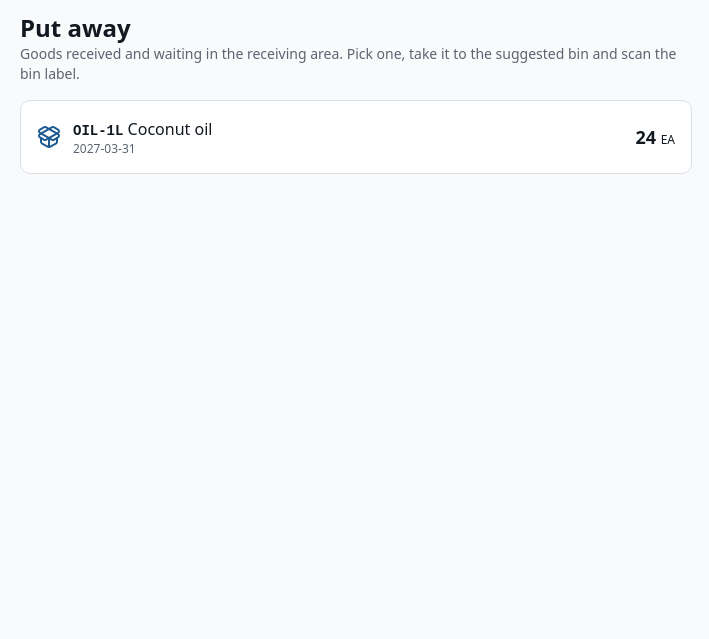
Test: suggests a bin, accepts another scanned bin with a note, and puts away the chosen quantity
Click the button "OIL-1L Coconut oil 2027-03-31 24 EA". click: click(98, 131)
box: [20,100,692,174]
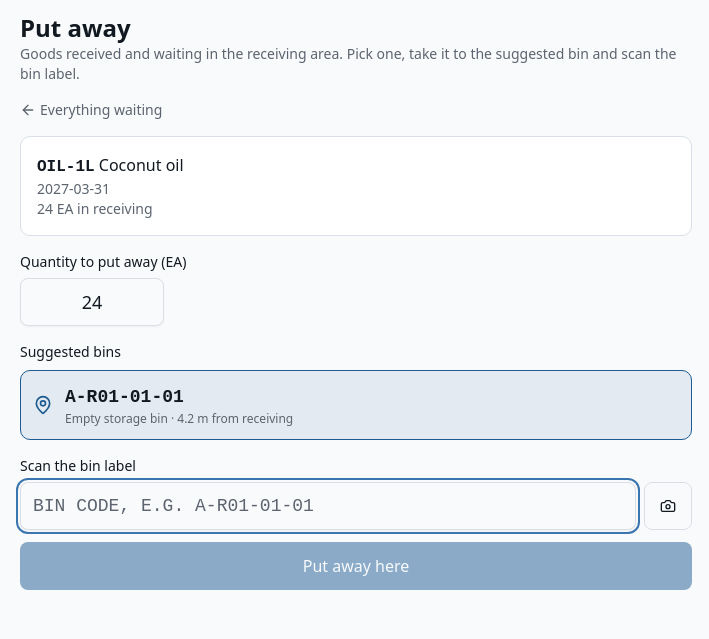
Replace the text in the field labelled "Quantity to put away (EA)" with "10". click: (92, 302)
box: [20,278,164,326]
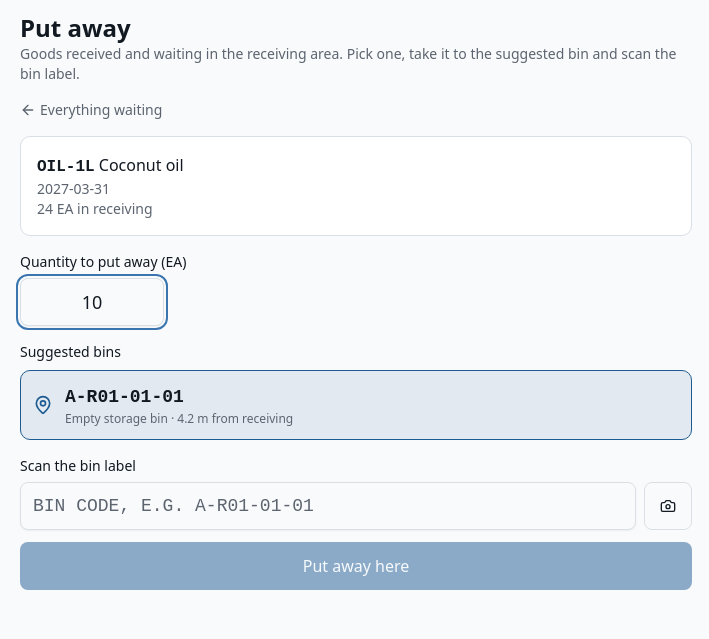
Now the text "A-R01-01-01" is shown, box [65,387,184,407]
Type "a-r01-01-02" into the field labelled "Scan the bin label". click: (328, 506)
box: [20,482,636,530]
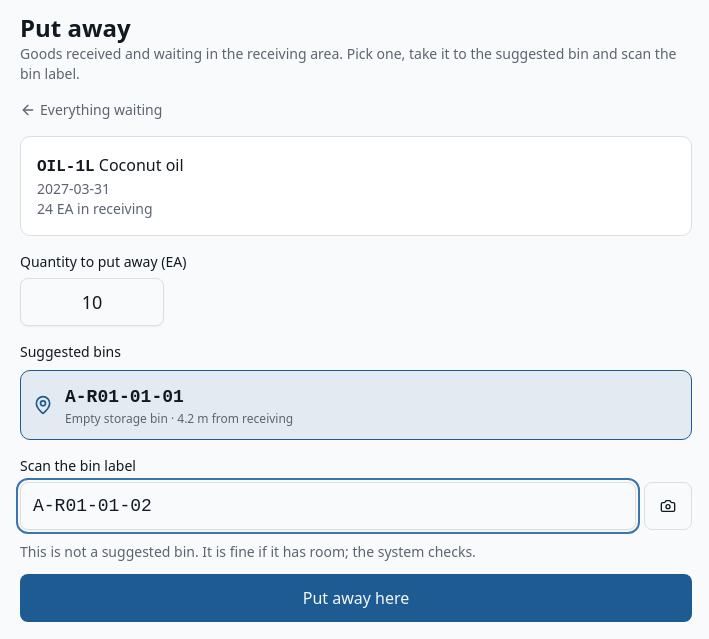
Now the text "This is not a suggested bin" is shown, box [20,542,476,561]
Click the button "Put away here". click: click(356, 598)
box: [20,574,692,622]
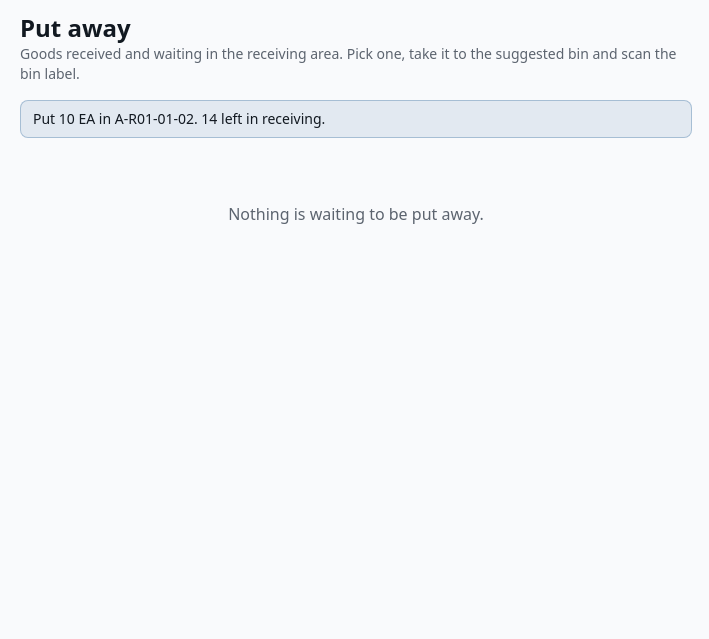
Now the text "Put 10 EA in A-R01-01-02. 14 left in receiving." is shown, box [20,100,692,138]
Now the text "Nothing is waiting to be put away." is shown, box [228,203,484,225]
